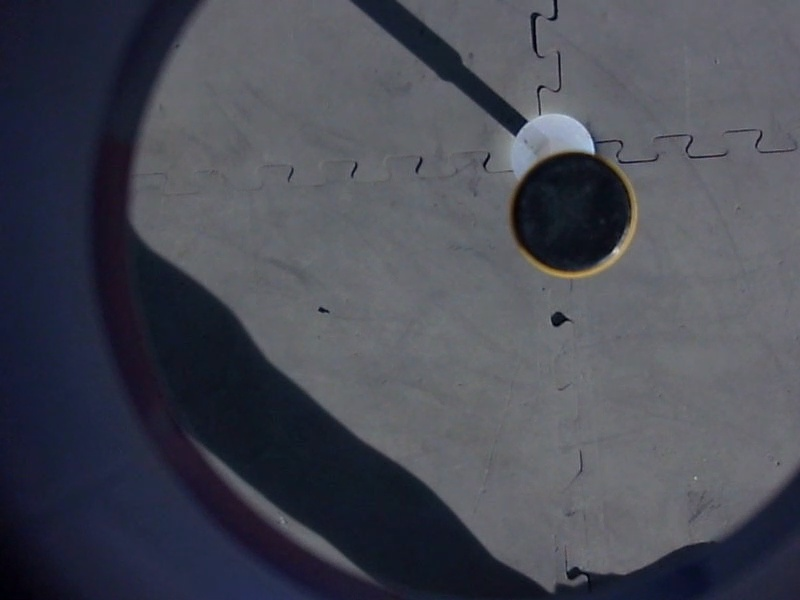tip: (504, 146, 644, 284)
